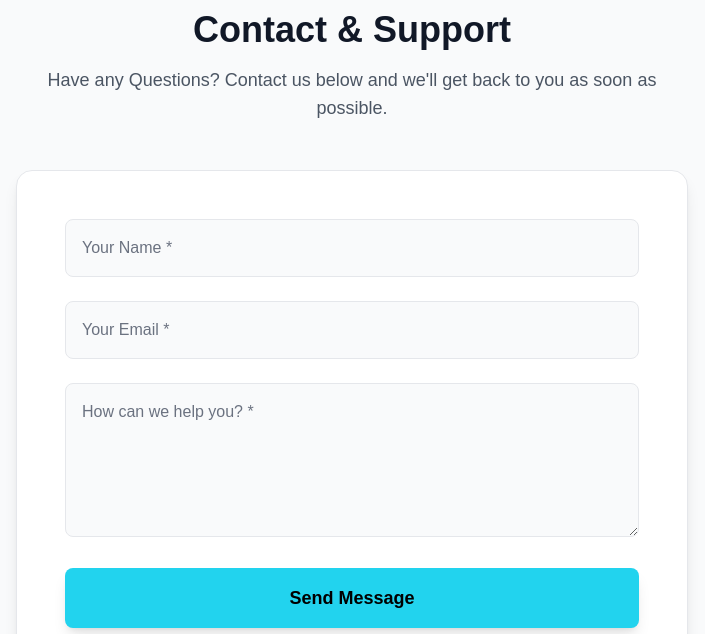
ContactSection Component › shows network error message when fetch throws
This screenshot has width=705, height=634.
Type "John Doe" into the field with placeholder "Your Name *" at (352, 248), box [65, 219, 639, 277]
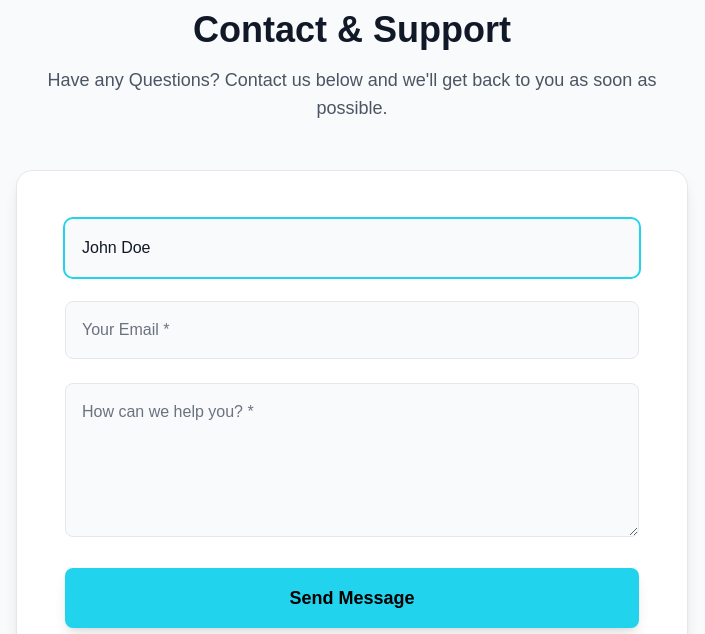
Type "john@example.com" into the field with placeholder "Your Email *" at (352, 330), box [65, 301, 639, 359]
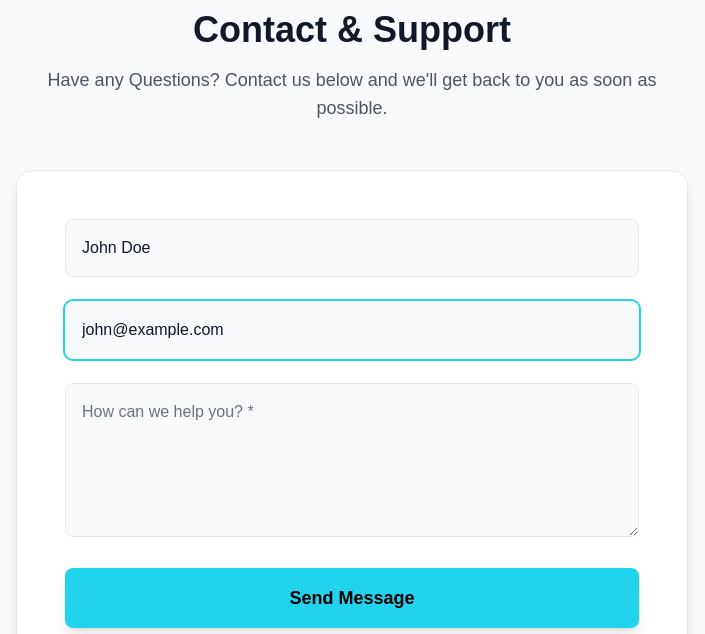
Type "This is a test message" into the text box with placeholder "How can we help you? *" at (352, 460), box [65, 383, 639, 537]
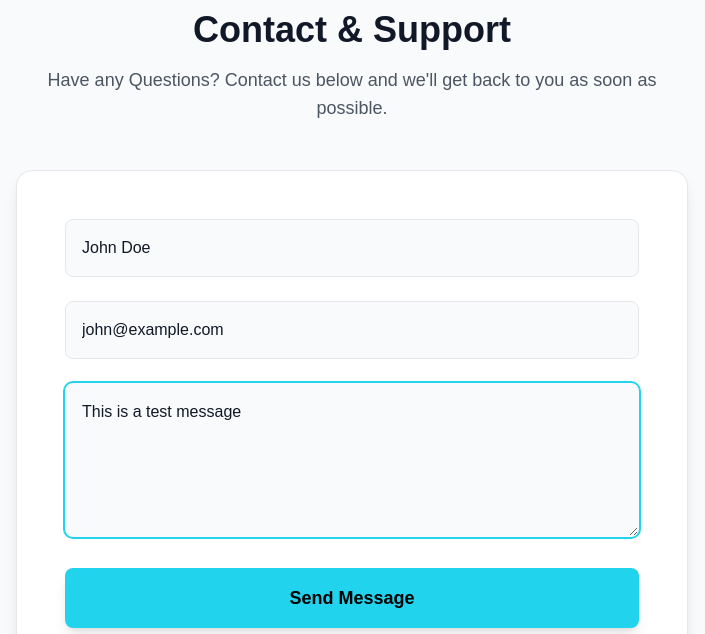
Click the button "Send Message" at (352, 598), box [65, 568, 639, 628]
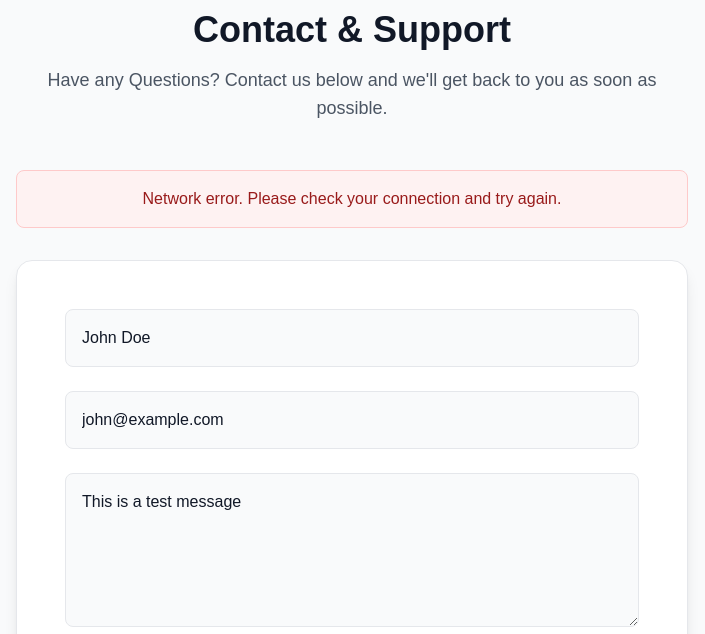
expect the text "Network error. Please check your connection and try again." is shown: met, box [16, 170, 688, 228]
